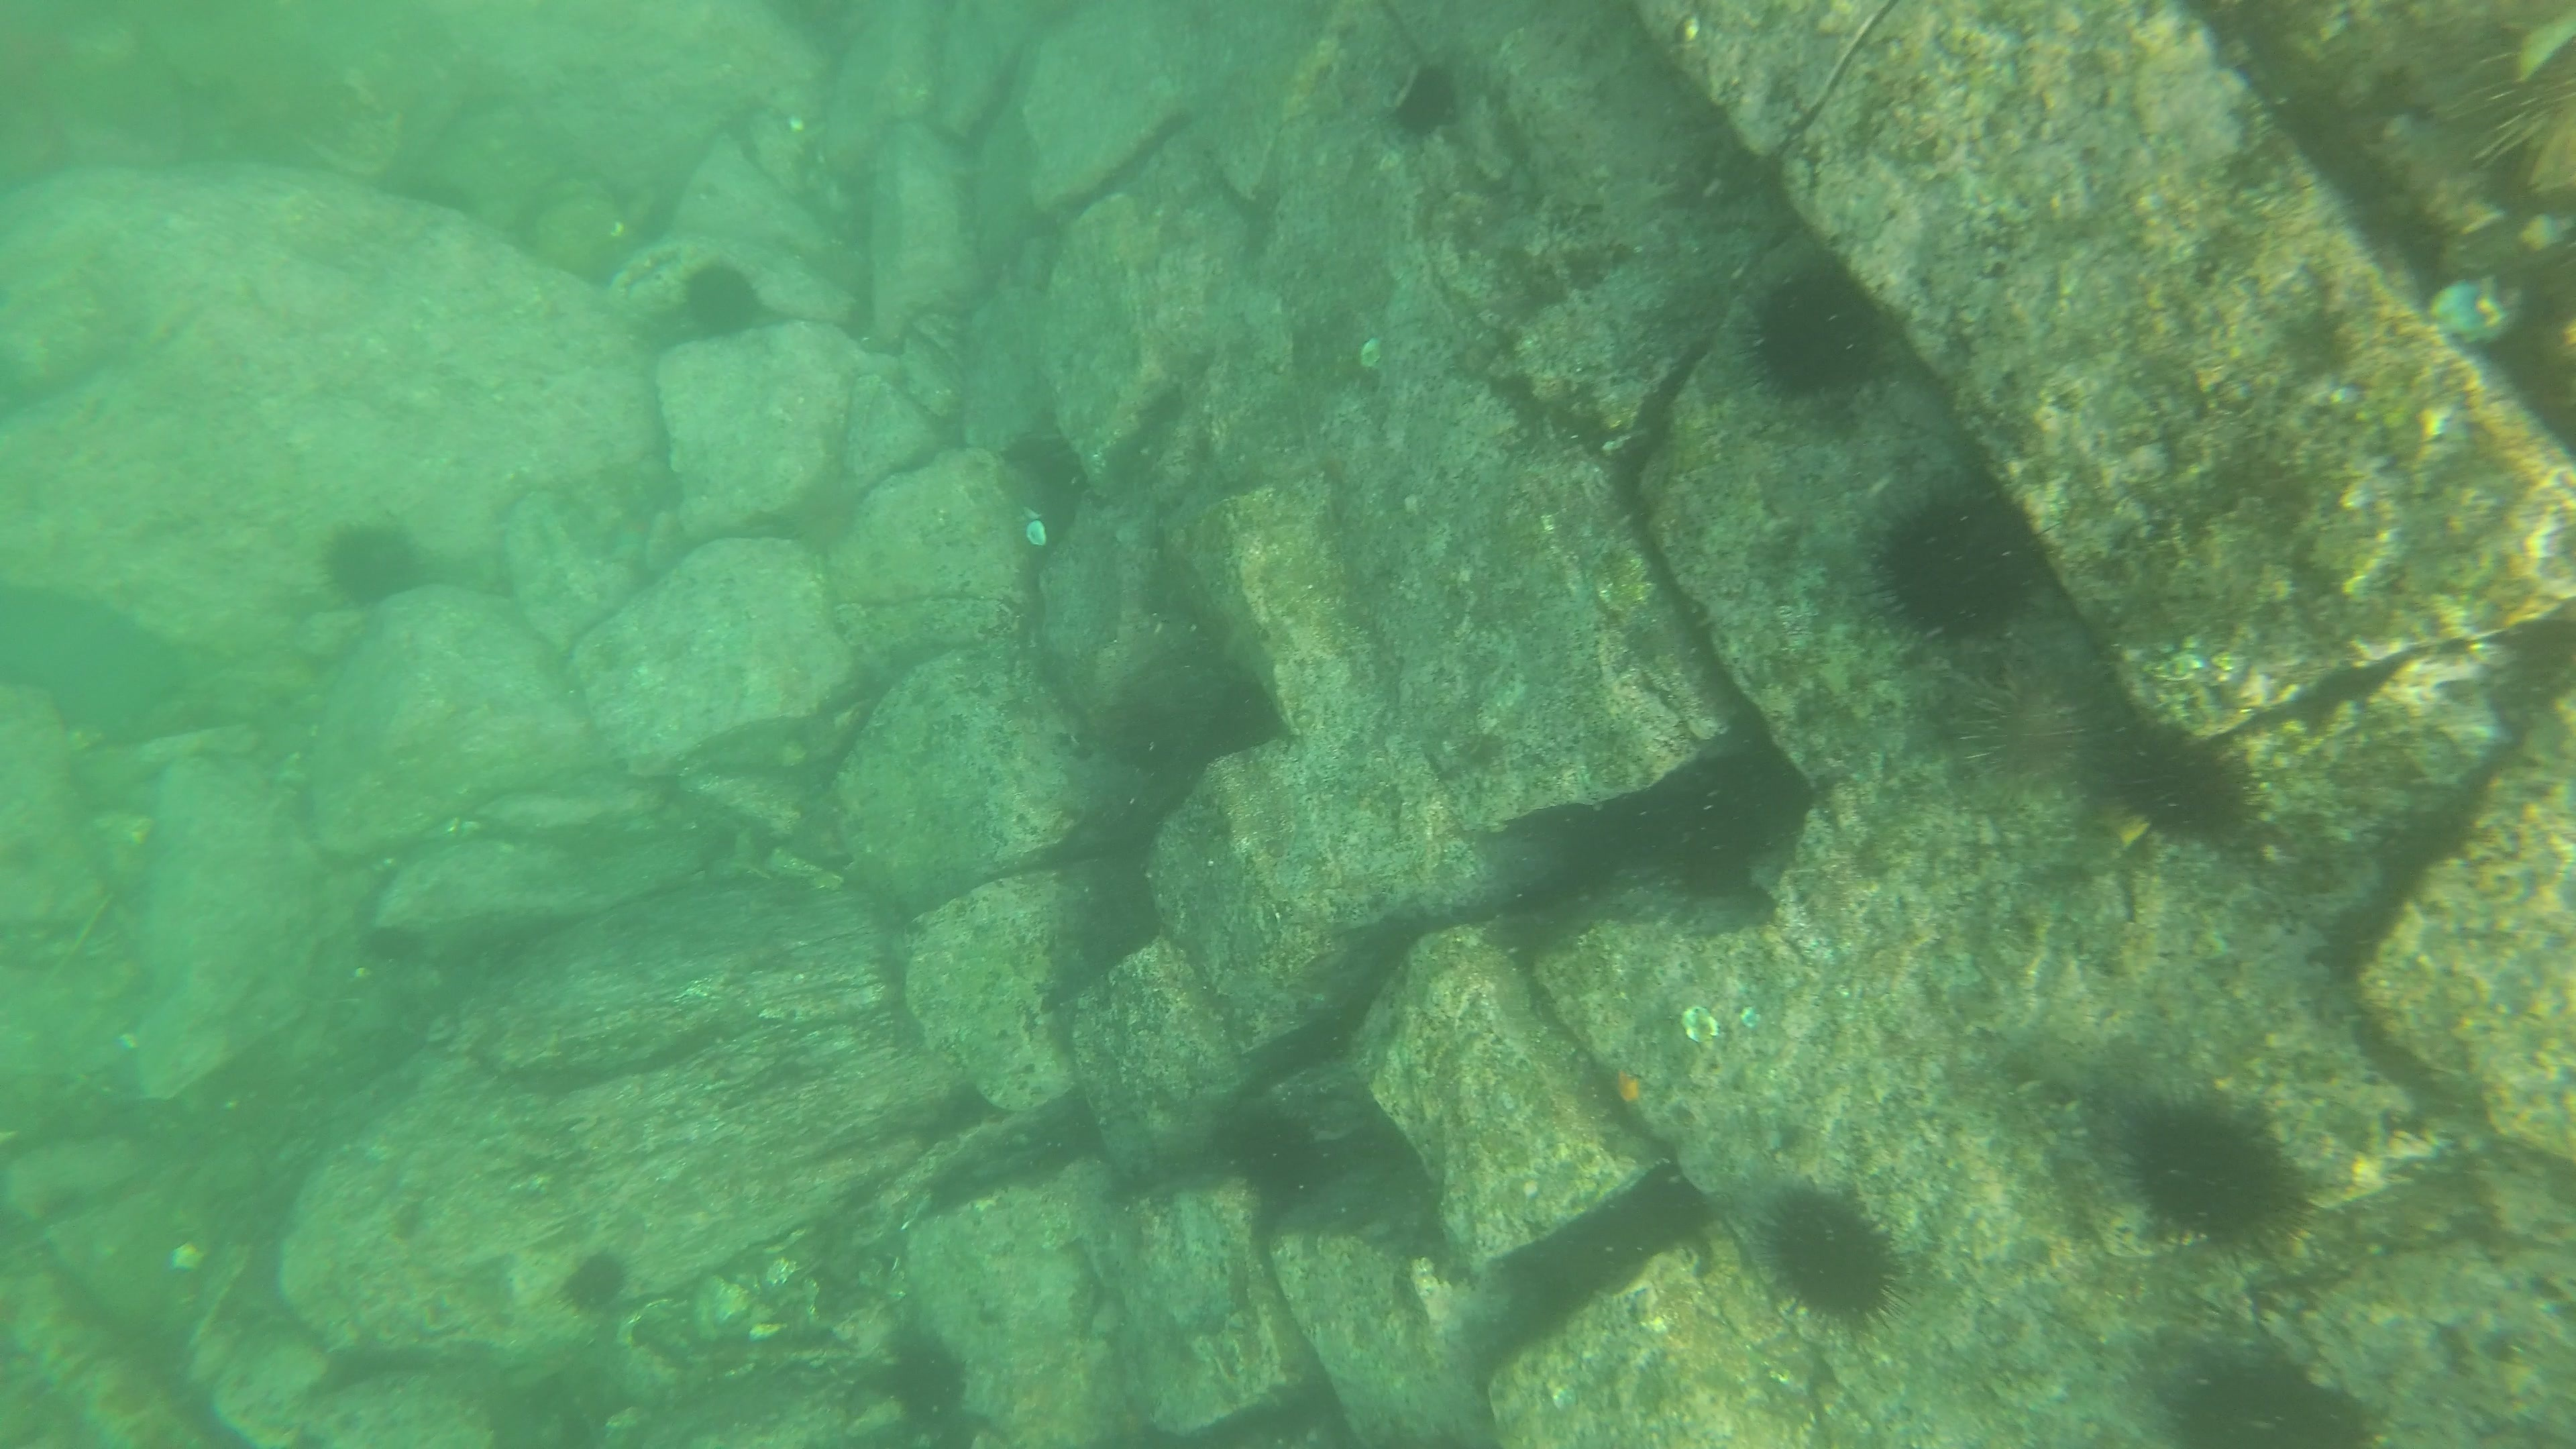echinus: (2114, 1088, 2312, 1256), (1865, 479, 2045, 646), (1737, 257, 1893, 405), (2465, 2, 2576, 209), (1755, 1182, 1907, 1330), (2157, 1345, 2376, 1444), (1951, 662, 2102, 800), (2104, 717, 2259, 847), (1651, 761, 1790, 904), (1215, 1099, 1339, 1210), (874, 1327, 982, 1438), (313, 513, 430, 614), (672, 253, 771, 347), (1382, 57, 1468, 143), (552, 1244, 637, 1323)
starfish: (1614, 1074, 1647, 1106)
